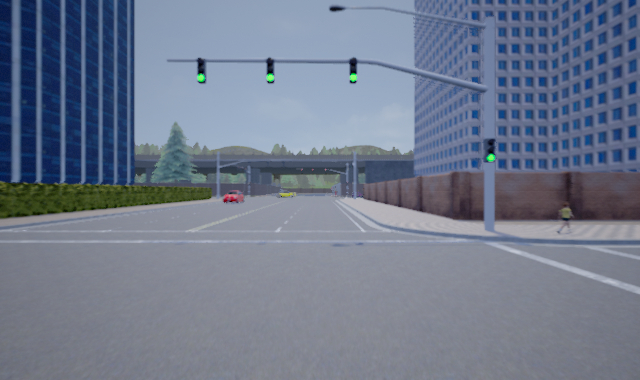pedestrian: (555, 203, 576, 235)
traffic_light: (483, 137, 497, 164), (264, 57, 277, 83), (196, 56, 208, 83), (348, 55, 358, 84)
vehicle: (223, 189, 245, 204), (274, 190, 298, 199)
